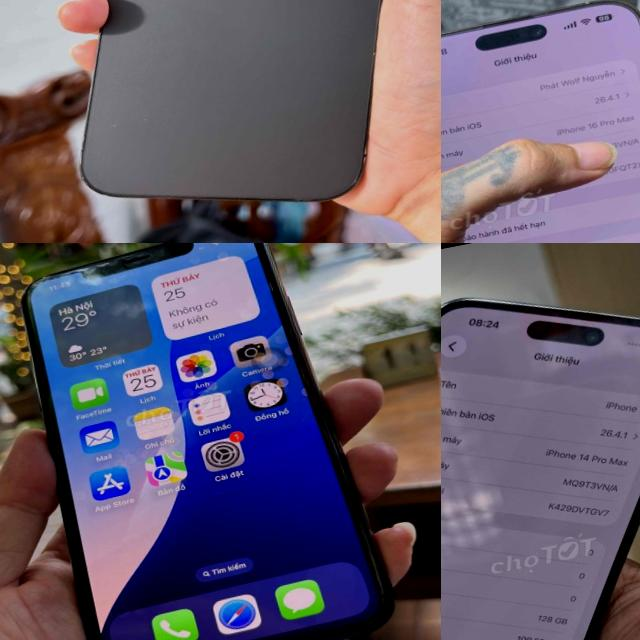scratch: (34, 256, 128, 292)
